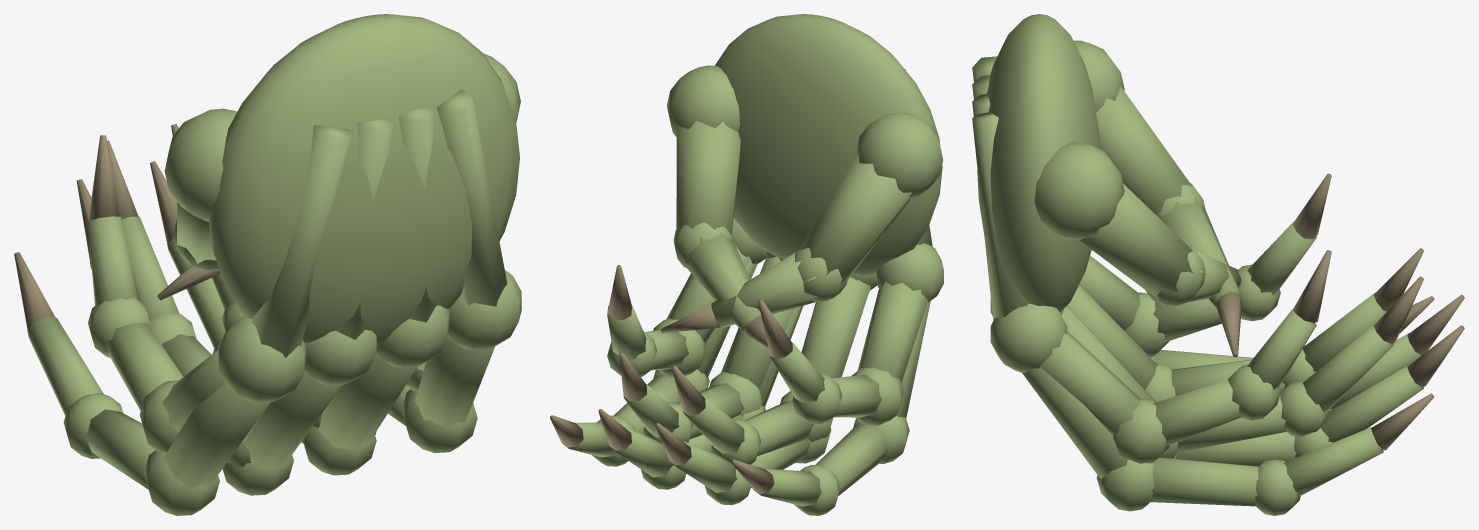
File: goblin-hands.glb
3 views of the same model, side by side, from view 1: azimuth 30°, elevation 25°; view 2: azimuth 150°, elevation 25°; view 3: azimuth 270°, elevation 25° (orthographic). The views are drawn at different scales.
Parts seen in each view (by area): view 1: kithand_L, kithand_R; view 2: kithand_L, kithand_R; view 3: kithand_L, kithand_R.
Boxes of the visible parts, <box> form: kithand_L: <box>14,14,521,515</box>; kithand_R: <box>88,53,520,475</box>; kithand_L: <box>607,14,943,515</box>; kithand_R: <box>550,65,928,489</box>; kithand_L: <box>972,14,1464,463</box>; kithand_R: <box>1022,142,1464,515</box>.
Bounding box in the file's own units: 0.0903 × 0.1302 × 0.1332.
